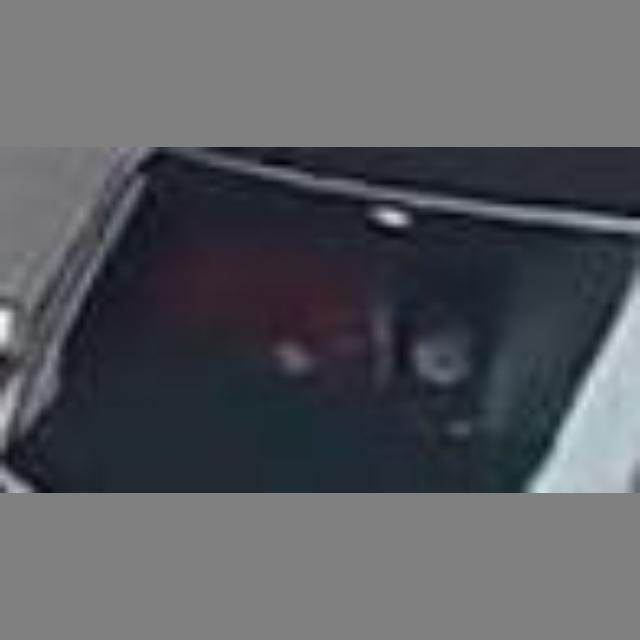tidak-pakai: (150, 186, 392, 421)
